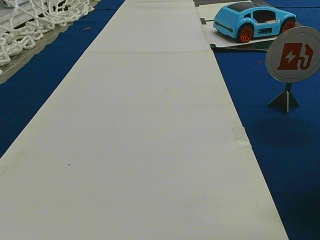battery: (267, 23, 319, 83)
car: (213, 3, 297, 41)
